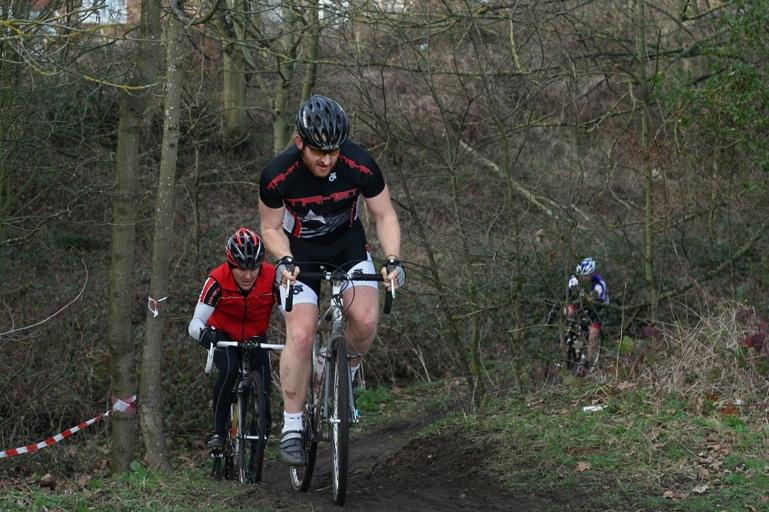non-vehicle: (274, 254, 400, 508), (204, 325, 285, 486), (562, 301, 605, 380)
